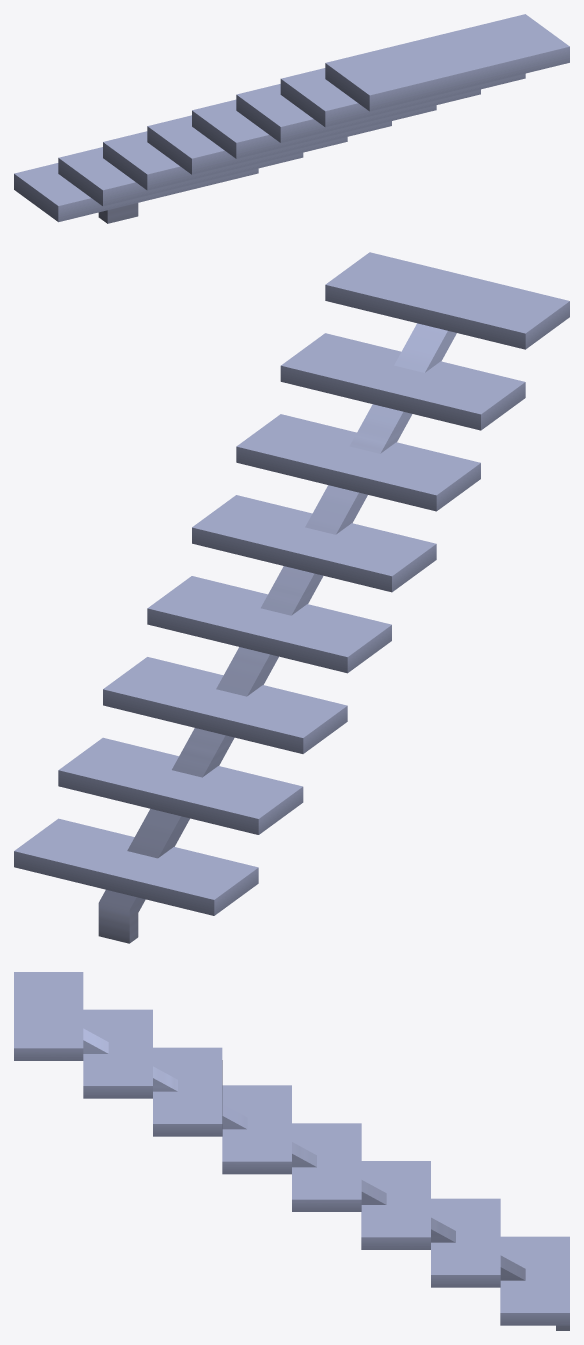
File: building_stairs_center.glb
3 views of the same model, one above another, from view 1: azimuth 30°, elevation 25°; view 2: azimuth 150°, elevation 25°; view 3: azimuth 270°, elevation 25° (orthographic). The views are drawn at different scales.
Parts seen in each view (by area): view 1: stairs-center; view 2: stairs-center; view 3: stairs-center.
Part boxes in pixels (<box>): stairs-center: <box>14,14,569,223</box>; stairs-center: <box>14,252,569,943</box>; stairs-center: <box>14,972,569,1330</box>.
Bounding box in the file's own units: 1.3 × 2.5 × 4.
1 material, 1 textured.
